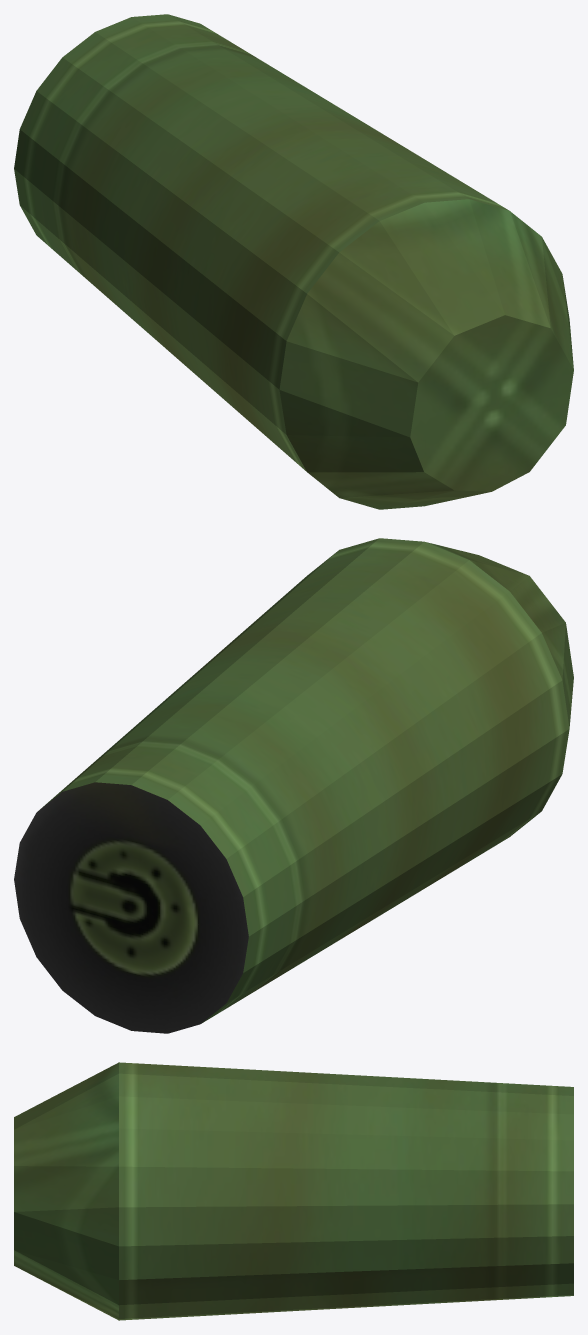
File: Bazooka_bul.obj
The picture shows the model from 3 angles, top to bottom: view 1: azimuth 30°, elevation 25°; view 2: azimuth 150°, elevation 25°; view 3: azimuth 270°, elevation 25°; orthographic projection. The views are drawn at different scales.
Parts seen in each view (by area): view 1: Bazooka_bul:pCylinder1; view 2: Bazooka_bul:pCylinder1; view 3: Bazooka_bul:pCylinder1.
Part boxes in pixels (box(x1,y1,x2,y2)): Bazooka_bul:pCylinder1: box(14, 14, 573, 509); Bazooka_bul:pCylinder1: box(14, 538, 573, 1033); Bazooka_bul:pCylinder1: box(14, 1062, 573, 1320).
Bounding box in the file's own units: 1.6 × 1.6 × 3.45.
Materials: 1 (1 with a texture image).
